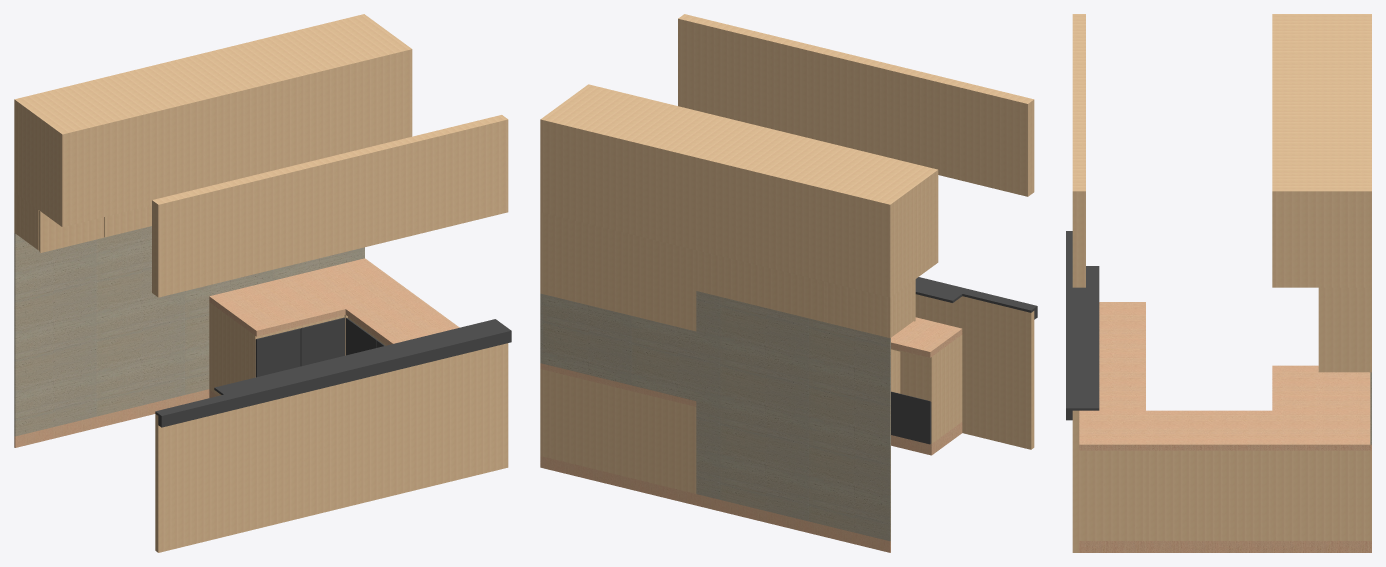
The model's file is JK02-Type2.FBX.
3 renders of one model, left to right at view 1: azimuth 30°, elevation 25°; view 2: azimuth 150°, elevation 25°; view 3: azimuth 270°, elevation 25°, orthographic. The views are drawn at different scales.
Parts seen in each view (by area): view 1: Extrusion [5499926], Joined Solid Geometry [5500099], Extrusion [5499609], Extrusion [5499663], Joined Solid Geometry [5500124], CSW_Sunray_Cab-Dbl-Dr_instance_FingerGroove CSW_Sunray_Cab-D (×2), Casework_Sunray_HangingCabinet_Single_Module Right [5500867], Extrusion [5499637], CSW-Sunray_OC2D 1000W 350D 800H [5499721]; view 2: Extrusion [5499926], Extrusion [5499609], Joined Solid Geometry [5500099], CSW_Sunray_Cab-Dbl-Dr_instance_FingerGroove CSW_Sunray_Cab-D, Casework-Sunray_OS_01 OS_single [5499884], CSW_Sunray_Cab-Dbl-Microwave-cabinet CSW_Sunray_Cab-Dbl-Dr_i, Extrusion [5499969], CSW-Sunray_OC1D OC1D2 500W 350D 800H [5499738], CSW-Sunray_OC2D 1000W 350D 800H [5499721], Casework_Sunray_HangingCabinet_Single_Module Right [5500867], Extrusion [5499663], Extrusion [5499637] (+3 smaller); view 3: Extrusion [5499926], Extrusion [5499663], CSW_Sunray_Cab-Dbl-Dr_instance_FingerGroove CSW_Sunray_Cab-D, Extrusion [5499969], Extrusion [5500002], Joined Solid Geometry [5500124], Casework-Sunray_OS_01 OS_single [5499884], Casework-Sunray_Cabinet_Base Cabinet_Base [5499976], Casework-Sunray_Cabinet_Base Cabinet_Base [5499695], Joined Solid Geometry [5500099], Casework-Sunray_Cabinet_Base Cabinet_Base [5499992].
Part boxes in pixels (x1=…): Extrusion [5499926]: x1=14, y1=14, x2=508, y2=297; Joined Solid Geometry [5500099]: x1=155, y1=343, x2=508, y2=552; Extrusion [5499609]: x1=14, y1=226, x2=364, y2=436; Extrusion [5499663]: x1=209, y1=258, x2=459, y2=345; Joined Solid Geometry [5500124]: x1=155, y1=319, x2=511, y2=427; CSW_Sunray_Cab-Dbl-Dr_instance_FingerGroove CSW_Sunray_Cab-D (×2): x1=209, y1=302, x2=386, y2=395; Casework_Sunray_HangingCabinet_Single_Module Right [5500867]: x1=14, y1=192, x2=104, y2=252; Extrusion [5499637]: x1=14, y1=389, x2=209, y2=447; CSW-Sunray_OC2D 1000W 350D 800H [5499721]: x1=104, y1=205, x2=151, y2=237; Extrusion [5499926]: x1=540, y1=14, x2=1034, y2=297; Extrusion [5499609]: x1=540, y1=291, x2=890, y2=541; Joined Solid Geometry [5500099]: x1=915, y1=294, x2=1034, y2=449; CSW_Sunray_Cab-Dbl-Dr_instance_FingerGroove CSW_Sunray_Cab-D: x1=607, y1=385, x2=696, y2=493; Casework-Sunray_OS_01 OS_single [5499884]: x1=540, y1=212, x2=629, y2=315; CSW_Sunray_Cab-Dbl-Microwave-cabinet CSW_Sunray_Cab-Dbl-Dr_i: x1=891, y1=335, x2=962, y2=444; Extrusion [5499969]: x1=540, y1=369, x2=606, y2=471; CSW-Sunray_OC1D OC1D2 500W 350D 800H [5499738]: x1=629, y1=234, x2=696, y2=331; CSW-Sunray_OC2D 1000W 350D 800H [5499721]: x1=696, y1=250, x2=825, y2=322; Casework_Sunray_HangingCabinet_Single_Module Right [5500867]: x1=825, y1=279, x2=915, y2=337; Extrusion [5499663]: x1=540, y1=317, x2=962, y2=406; Extrusion [5499637]: x1=696, y1=494, x2=890, y2=552; Extrusion [5499926]: x1=1072, y1=14, x2=1371, y2=287; Extrusion [5499663]: x1=1079, y1=302, x2=1371, y2=450; CSW_Sunray_Cab-Dbl-Dr_instance_FingerGroove CSW_Sunray_Cab-D: x1=1146, y1=450, x2=1272, y2=540; Extrusion [5499969]: x1=1272, y1=450, x2=1371, y2=540; Extrusion [5500002]: x1=1079, y1=450, x2=1145, y2=540; Joined Solid Geometry [5500124]: x1=1066, y1=231, x2=1099, y2=420; Casework-Sunray_OS_01 OS_single [5499884]: x1=1318, y1=287, x2=1371, y2=372; Casework-Sunray_Cabinet_Base Cabinet_Base [5499976]: x1=1143, y1=541, x2=1274, y2=552; Casework-Sunray_Cabinet_Base Cabinet_Base [5499695]: x1=1275, y1=541, x2=1371, y2=552; Joined Solid Geometry [5500099]: x1=1072, y1=410, x2=1079, y2=552; Casework-Sunray_Cabinet_Base Cabinet_Base [5499992]: x1=1079, y1=541, x2=1143, y2=552.
Size of the model in its own units: 124 by 118 by 90.55.
7 materials, 6 textured.
